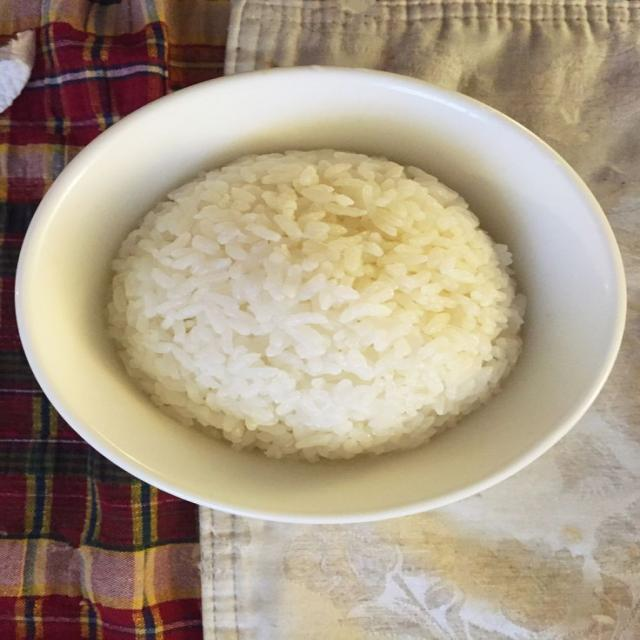rice: (110, 151, 522, 459)
